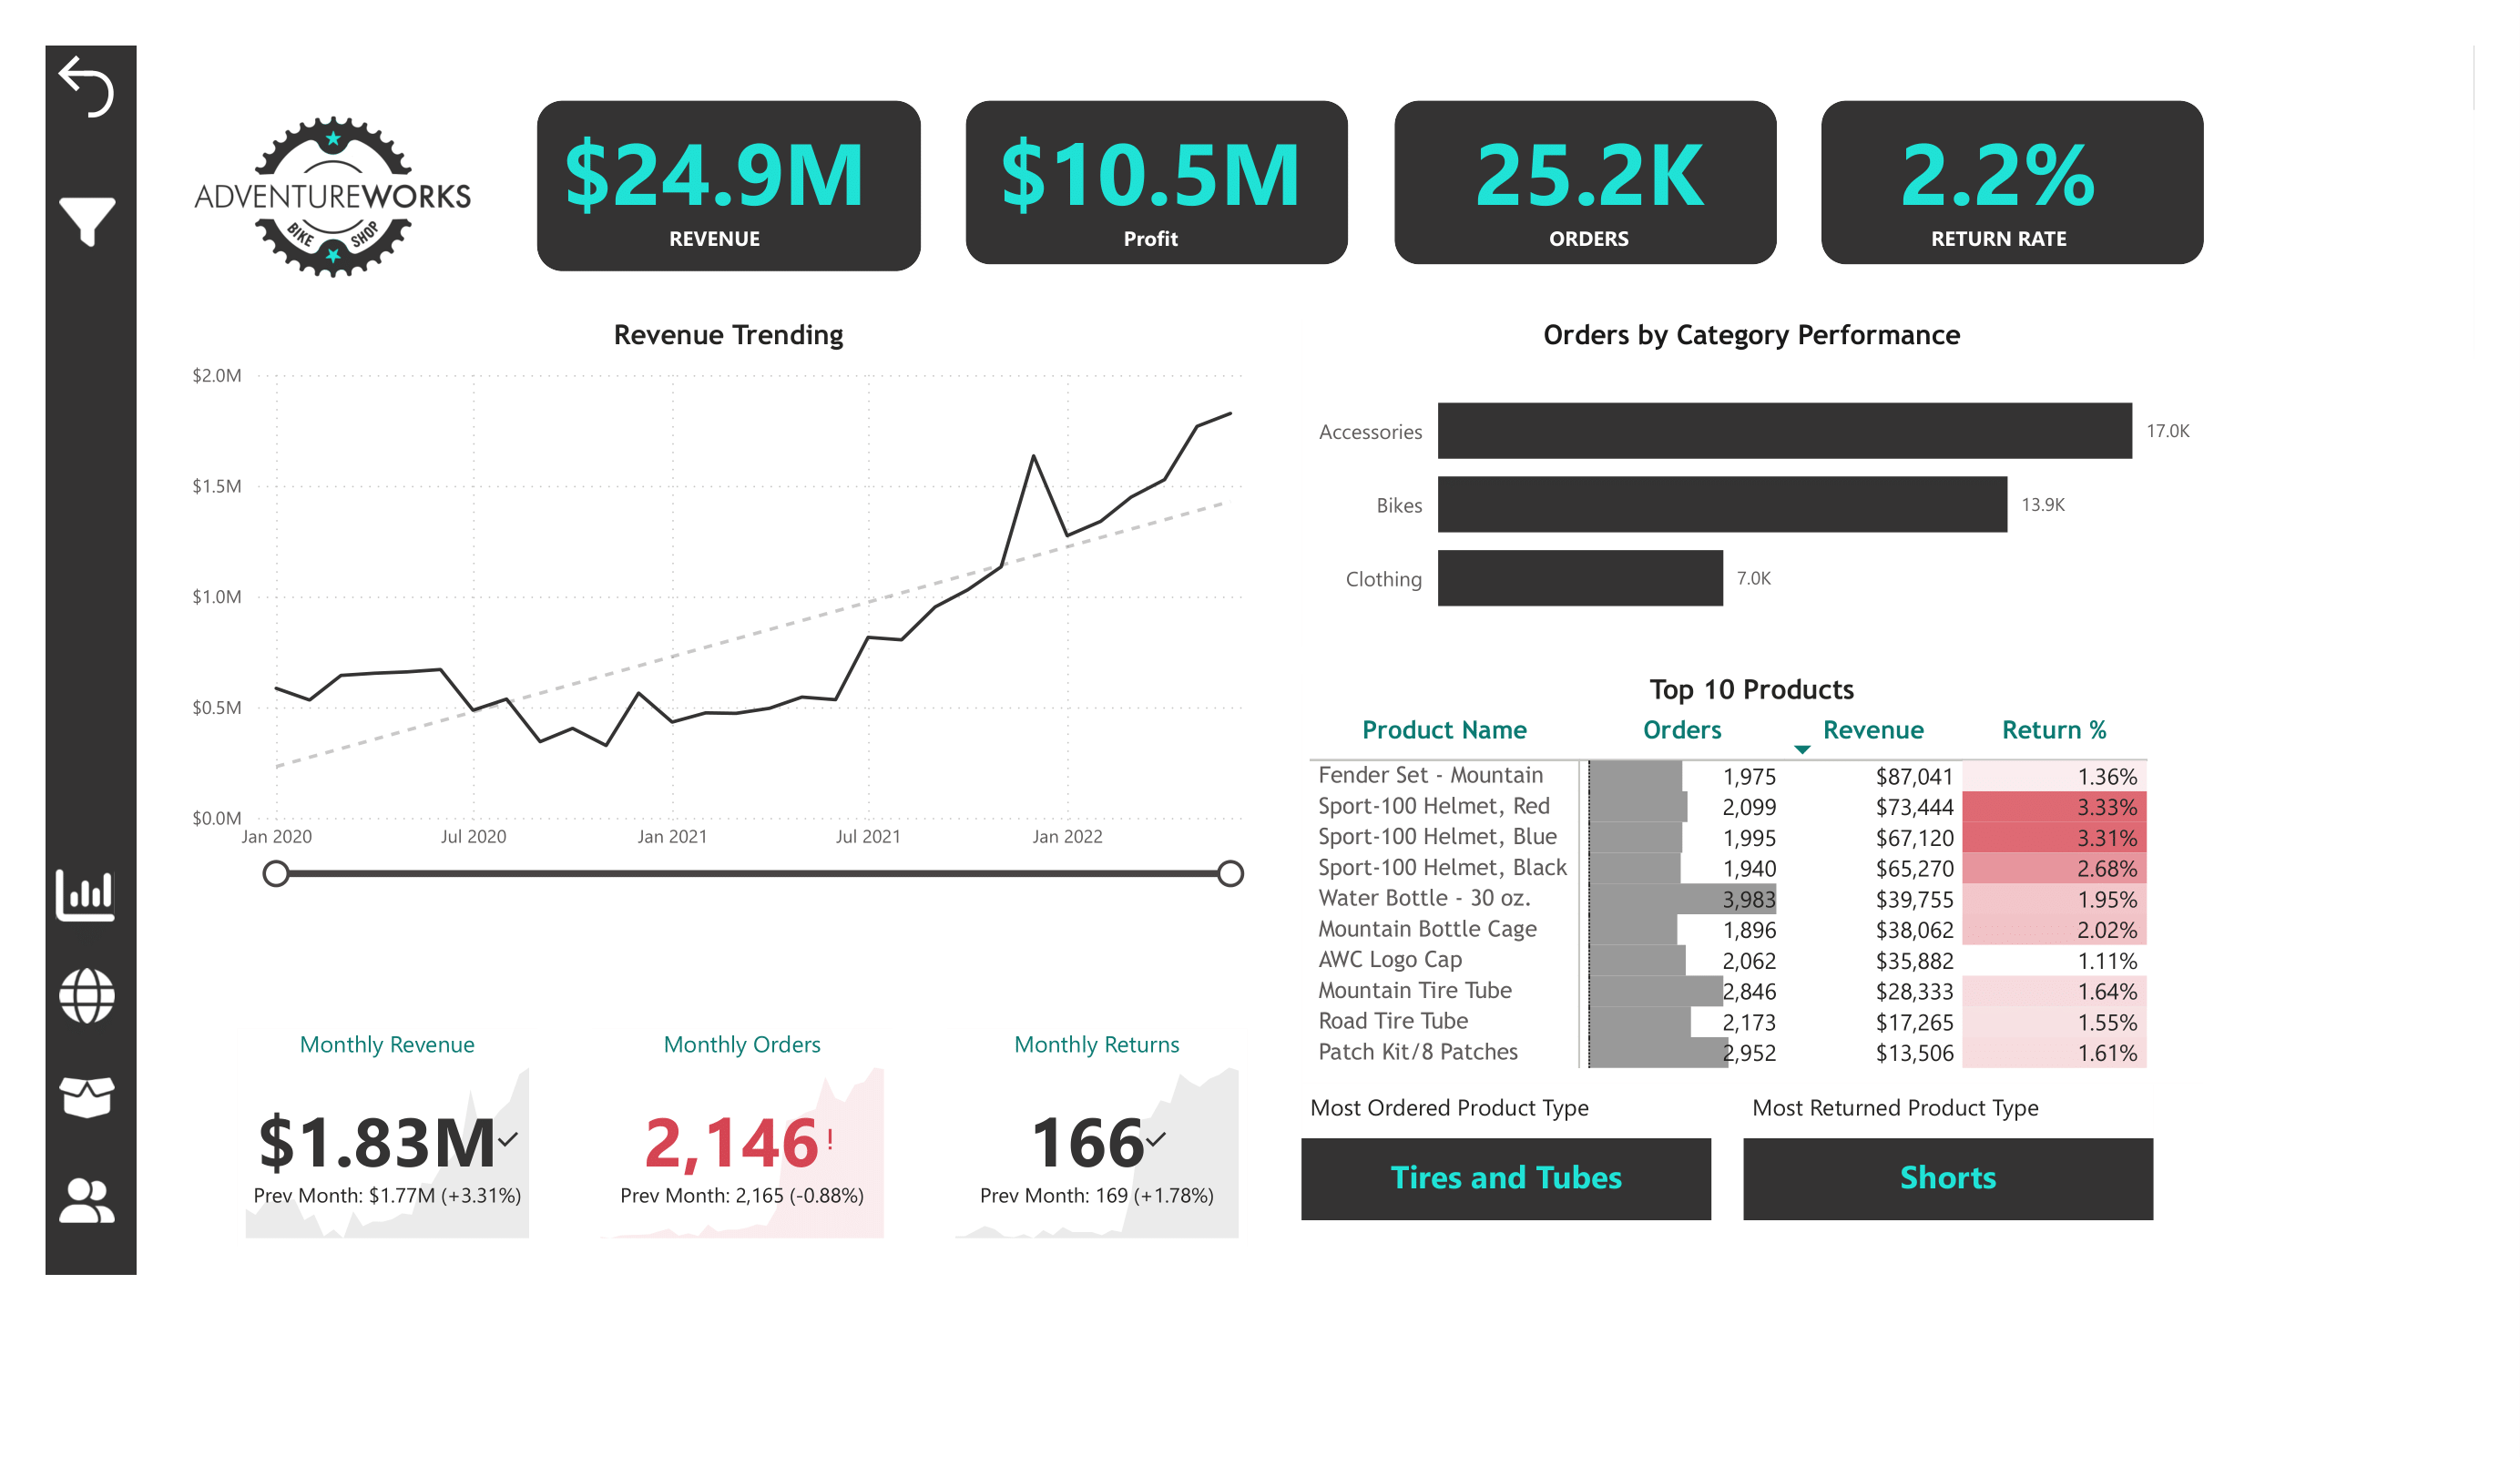

The dashboard page shown, as its layout file describes it:
{"tool":"powerbi","page":{"name":"Exec Performance Overview","canvas":[1280,720],"ordinal":0},"visuals":[{"type":"card","fields":{"Values":["Measure Table.Total Revenue"]},"box":[288,0,208,160],"z":0,"group":"g2"},{"type":"group","id":"g1","title":"KPI Backgrounds","box":[288,32,976,100],"z":0,"group":"g3"},{"type":"shape","box":[288,32,225,100],"z":0,"group":"g1"},{"type":"actionButton","box":[2.2,476.7,44.4,42.2],"z":0,"group":"g4"},{"type":"textbox","box":[736,608,240,48],"z":0},{"type":"group","id":"g2","title":"KPI VALUE","box":[288,0,960,160],"z":1000,"group":"g3"},{"type":"card","fields":{"Values":["Measure Table.Return Rate"]},"box":[1040,0,208,160],"z":1000,"group":"g2"},{"type":"image","title":"AW-logo","box":[64,32,208,112],"z":1000},{"type":"shape","box":[1040,32,224,96],"z":1000,"group":"g1"},{"type":"actionButton","box":[4.4,537.1,44.4,40],"z":1000,"group":"g4"},{"type":"shape","title":"Left Nav Background","box":[0,0,53.3,720],"z":2000},{"type":"card","fields":{"Values":["Measure Table.Total Orders"]},"box":[800,0,208,160],"z":2000,"group":"g2"},{"type":"shape","box":[539.3,32,224,96],"z":2000,"group":"g1"},{"type":"actionButton","box":[4.4,595.2,40,42.2],"z":2000,"group":"g4"},{"type":"group","id":"g3","title":"KPIs","box":[288,0,976,160],"z":3000},{"type":"card","fields":{"Values":["Measure Table.Total Profit"]},"box":[544,0,208,160],"z":3000,"group":"g2"},{"type":"shape","box":[789.7,32,224,96],"z":3000,"group":"g1"},{"type":"actionButton","box":[4.4,655.6,40,42.2],"z":3000,"group":"g4"},{"type":"lineChart","title":"Revenue Trending","fields":{"Y":["Measure Table.Total Revenue"],"Category":["Calendar Lookup.Year","Calendar Lookup.Start of Quarter","Calendar Lookup.Start of Month"]},"box":[80,160,640,336],"z":4000},{"type":"kpi","title":"Monthly Revenue","fields":{"Indicator":["Measure Table.Total Revenue"],"TrendLine":["Calendar Lookup.Start of Month"],"Goal":["Measure Table.Previous Month Revenue"]},"box":[112,576,176,128],"z":5000},{"type":"kpi","title":"Monthly Returns","fields":{"Indicator":["Measure Table.Total Returns"],"TrendLine":["Calendar Lookup.Start of Month"],"Goal":["Measure Table.Previous Month Returns"]},"box":[528,576,176,128],"z":6000},{"type":"kpi","title":"Monthly Orders","fields":{"TrendLine":["Calendar Lookup.Start of Month"],"Goal":["Measure Table.Previous Month Orders"],"Indicator":["Measure Table.Total Orders"]},"box":[320,576,176,128],"z":7000},{"type":"barChart","title":"Orders by Category Performance","fields":{"Category":["Product Categories Lookup.CategoryName"],"Y":["Measure Table.Total Orders"]},"box":[736,160,528,192],"z":8000},{"type":"pivotTable","title":"Top 10 Products","fields":{"Rows":["Product Lookup.ProductName"],"Values":["Measure Table.Total Orders","Measure Table.Total Revenue","Measure Table.Return Rate"]},"box":[736,368,528,240],"z":9000},{"type":"card","fields":{"Values":["Min(Product Subcategories Lookup.SubcategoryName)"]},"box":[736,640,240,48],"z":10000},{"type":"textbox","box":[995,607.5,240,48],"z":11000},{"type":"card","fields":{"Values":["Min(Product Subcategories Lookup.SubcategoryName)"]},"box":[995,639.5,240,48],"z":12000},{"type":"actionButton","box":[0,0,53.3,47.8],"z":13000},{"type":"group","id":"g4","title":"Navigation Buttons","box":[2.2,476.7,46.7,221.1],"z":14000},{"type":"actionButton","box":[4.2,83.1,44.7,40.5],"z":15000}]}

Visuals, with their boxes on the page's 1280x720 design canvas (x1, y1, x2, y2). These are canvas units, not pixel positions in the 2520x1457 screenshot, which may show the page scaled, cropped or inside an application window:
card - Measure Table.Total Revenue: pyautogui.locateOnScreen(288, 0, 496, 160)
"KPI Backgrounds" group: pyautogui.locateOnScreen(288, 32, 1264, 132)
shape: pyautogui.locateOnScreen(288, 32, 513, 132)
actionButton: pyautogui.locateOnScreen(2, 477, 47, 519)
textbox: pyautogui.locateOnScreen(736, 608, 976, 656)
"KPI VALUE" group: pyautogui.locateOnScreen(288, 0, 1248, 160)
card - Measure Table.Return Rate: pyautogui.locateOnScreen(1040, 0, 1248, 160)
"AW-logo" image: pyautogui.locateOnScreen(64, 32, 272, 144)
shape: pyautogui.locateOnScreen(1040, 32, 1264, 128)
actionButton: pyautogui.locateOnScreen(4, 537, 49, 577)
"Left Nav Background" shape: pyautogui.locateOnScreen(0, 0, 53, 720)
card - Measure Table.Total Orders: pyautogui.locateOnScreen(800, 0, 1008, 160)
shape: pyautogui.locateOnScreen(539, 32, 763, 128)
actionButton: pyautogui.locateOnScreen(4, 595, 44, 637)
"KPIs" group: pyautogui.locateOnScreen(288, 0, 1264, 160)
card - Measure Table.Total Profit: pyautogui.locateOnScreen(544, 0, 752, 160)
shape: pyautogui.locateOnScreen(790, 32, 1014, 128)
actionButton: pyautogui.locateOnScreen(4, 656, 44, 698)
"Revenue Trending" lineChart: pyautogui.locateOnScreen(80, 160, 720, 496)
"Monthly Revenue" kpi: pyautogui.locateOnScreen(112, 576, 288, 704)
"Monthly Returns" kpi: pyautogui.locateOnScreen(528, 576, 704, 704)
"Monthly Orders" kpi: pyautogui.locateOnScreen(320, 576, 496, 704)
"Orders by Category Performance" barChart: pyautogui.locateOnScreen(736, 160, 1264, 352)
"Top 10 Products" pivotTable: pyautogui.locateOnScreen(736, 368, 1264, 608)
card - Min(Product Subcategories Lookup.SubcategoryName): pyautogui.locateOnScreen(736, 640, 976, 688)
textbox: pyautogui.locateOnScreen(995, 608, 1235, 656)
card - Min(Product Subcategories Lookup.SubcategoryName): pyautogui.locateOnScreen(995, 640, 1235, 688)
actionButton: pyautogui.locateOnScreen(0, 0, 53, 48)
"Navigation Buttons" group: pyautogui.locateOnScreen(2, 477, 49, 698)
actionButton: pyautogui.locateOnScreen(4, 83, 49, 124)
